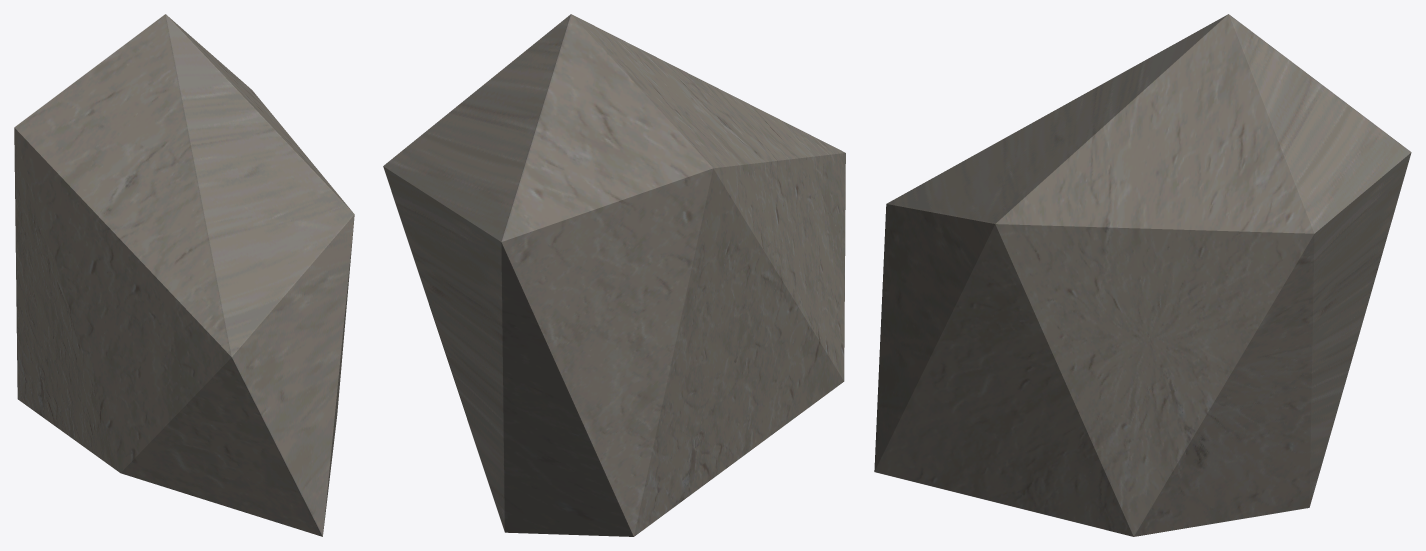
Rendered from Pedrolo2.fbx.
3 renders of one model, left to right at view 1: azimuth 30°, elevation 25°; view 2: azimuth 150°, elevation 25°; view 3: azimuth 270°, elevation 25°, orthographic. The views are drawn at different scales.
Visible parts, largest first — view 1: root; view 2: root; view 3: root.
Part boxes in pixels (<box>): root: <box>14,14,354,536</box>; root: <box>383,14,845,536</box>; root: <box>874,14,1411,536</box>.
Size of the model in its own units: 0.3367 by 0.5102 by 0.5152.
1 material, 1 textured.
